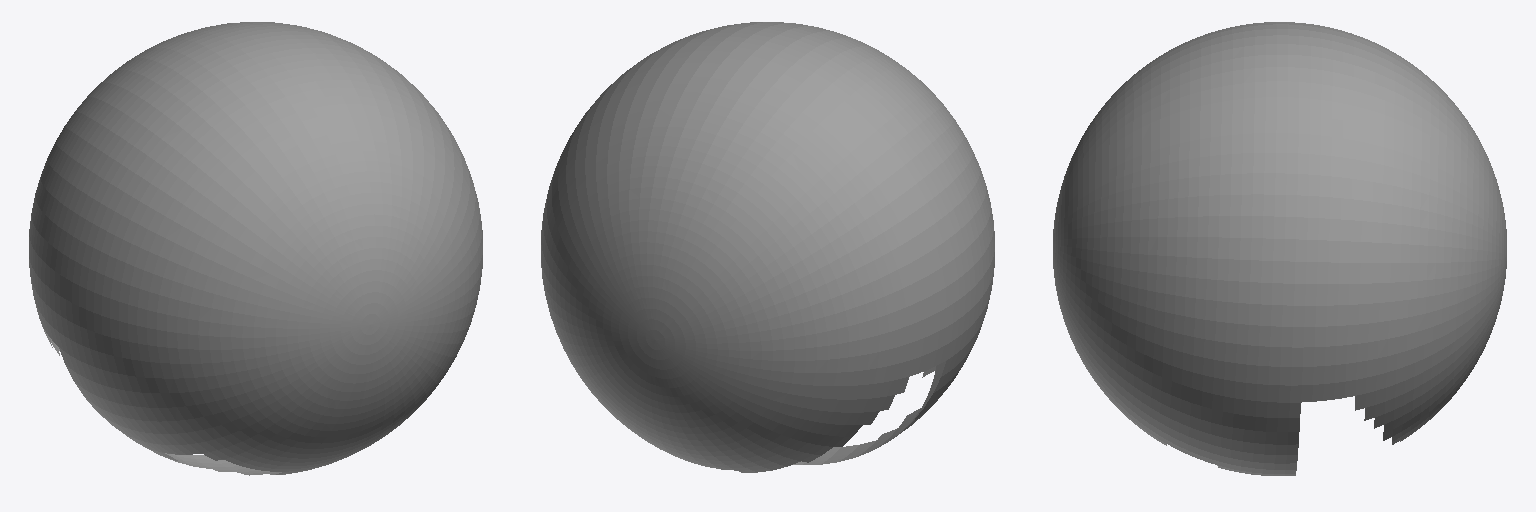
File: Head.obj
The picture shows the model from 3 angles: view 1: azimuth 30°, elevation 25°; view 2: azimuth 150°, elevation 25°; view 3: azimuth 270°, elevation 25°; orthographic projection.
Parts seen in each view (by area): view 1: Sphere.002; view 2: Sphere.002; view 3: Sphere.002.
Part boxes in pixels (x1,y1,x2,y2): Sphere.002: (29,22,482,475); Sphere.002: (541,22,994,472); Sphere.002: (1053,22,1506,475).
Size of the model in its own units: 0.09 by 0.093 by 0.09.